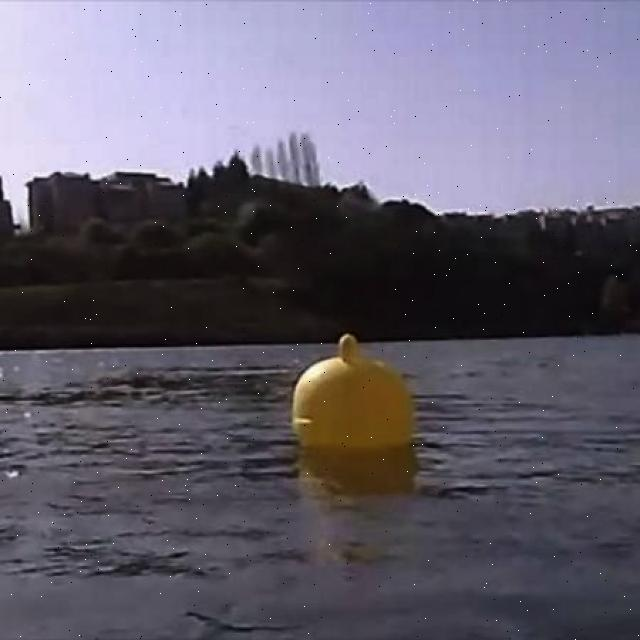buoy: (293, 331, 414, 448)
